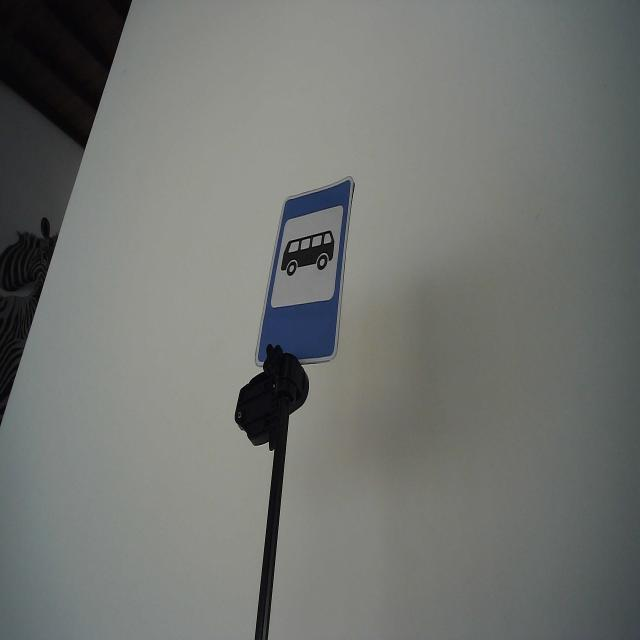bus_stop: (252, 171, 357, 369)
